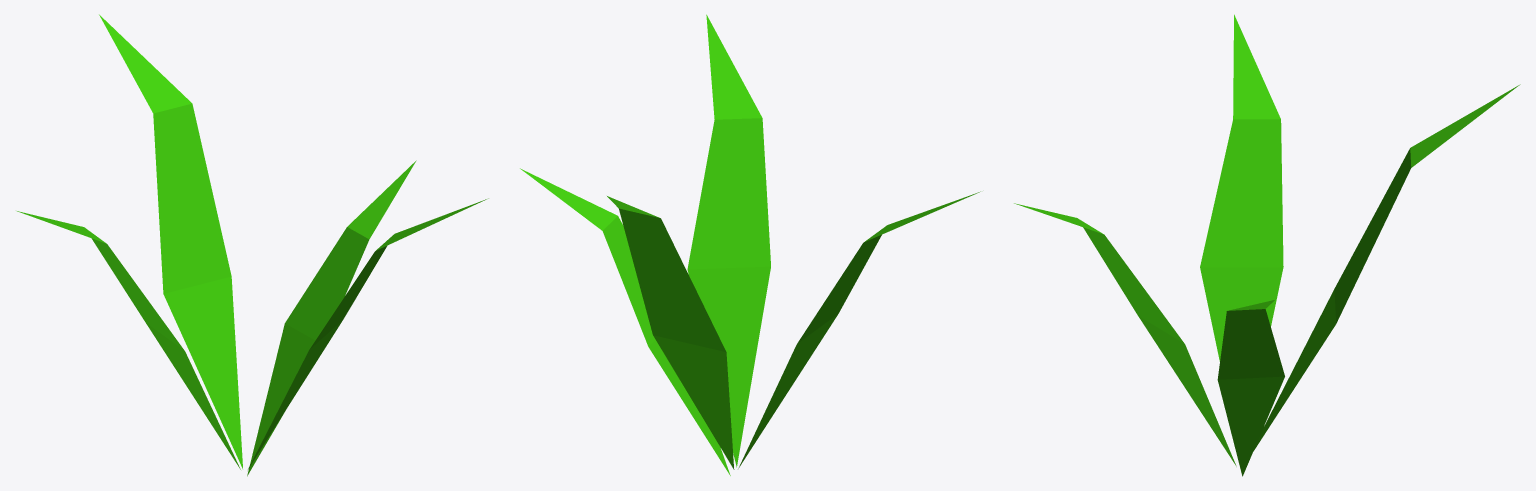
File: grass_blade.glb
3 views of the same model, side by side, from view 1: azimuth 30°, elevation 25°; view 2: azimuth 150°, elevation 25°; view 3: azimuth 270°, elevation 25° (orthographic). The views are drawn at different scales.
Visible parts, largest first — view 1: Plane.003; view 2: Plane.003; view 3: Plane.003.
Part boxes in pixels (x1,y1,x2,y2): Plane.003: (17,14,488,476); Plane.003: (520,14,980,475); Plane.003: (1014,14,1520,476).
Bounding box in the file's own units: 0.8467 × 0.7067 × 0.8454.
Materials: 1 (1 with a texture image).
